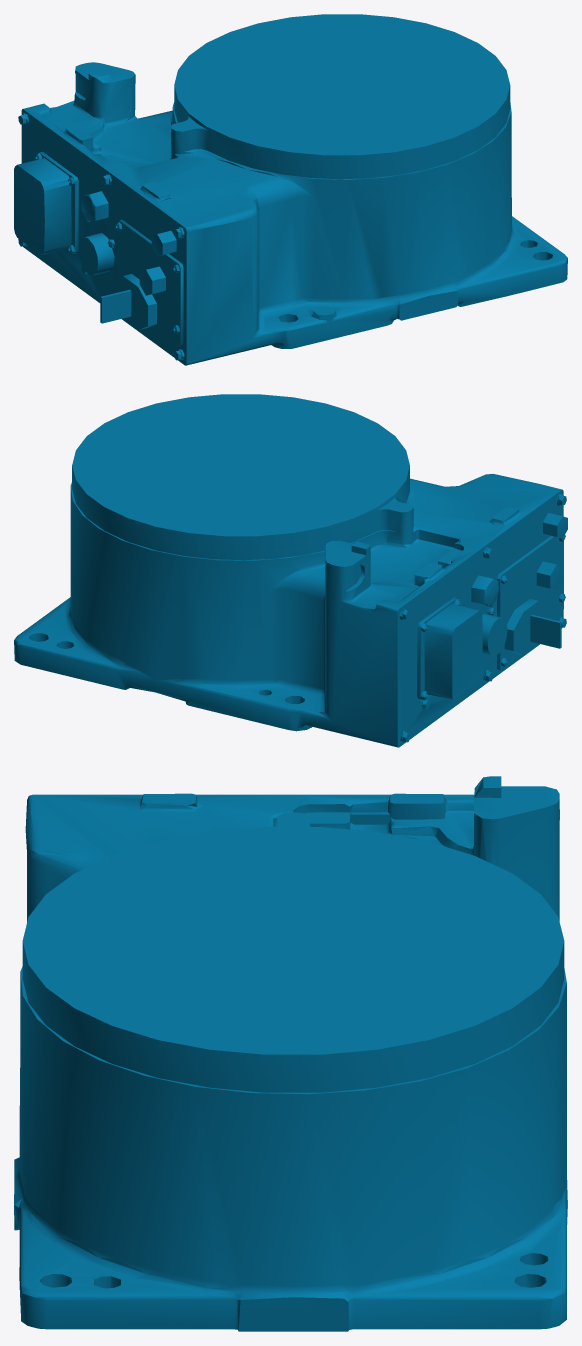
3 views of the same model, one above another, from view 1: azimuth 30°, elevation 25°; view 2: azimuth 150°, elevation 25°; view 3: azimuth 270°, elevation 25° (orthographic). The views are drawn at different scales.
Visible parts, largest first — view 1: f_1-06vxh12-a00_lk0; view 2: f_1-06vxh12-a00_lk0; view 3: f_1-06vxh12-a00_lk0.
Boxes of the visible parts, bbox=[...] form: f_1-06vxh12-a00_lk0: bbox=[14, 14, 567, 365]; f_1-06vxh12-a00_lk0: bbox=[14, 394, 567, 747]; f_1-06vxh12-a00_lk0: bbox=[14, 776, 567, 1331].
Size of the model in its own units: 0.4385 by 0.3037 by 0.1746.
